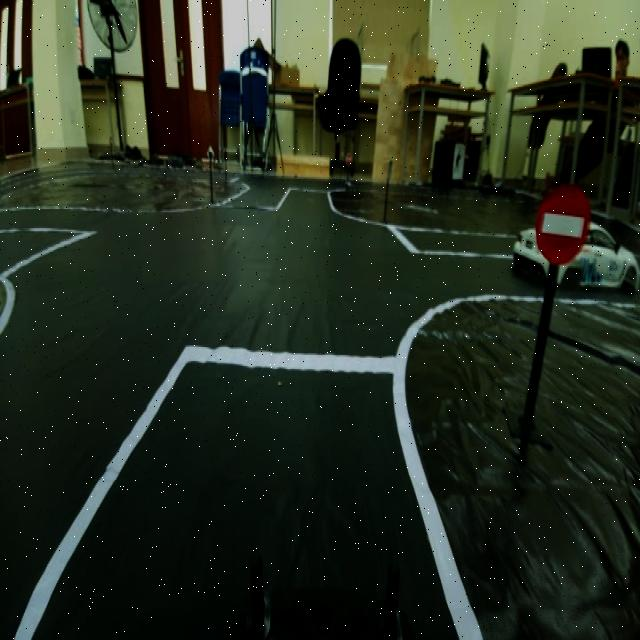no_entry: (531, 185, 592, 270)
